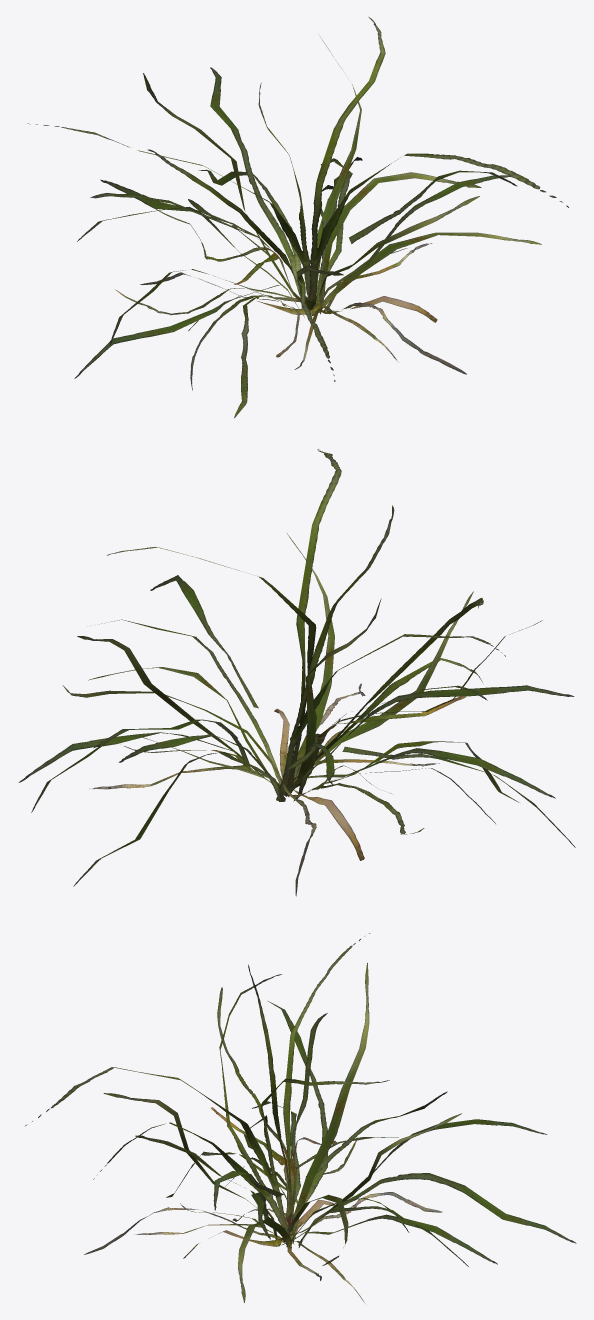
Rendered from grass-medium-01-small-b.glb.
3 views of the same model, one above another, from view 1: azimuth 30°, elevation 25°; view 2: azimuth 150°, elevation 25°; view 3: azimuth 270°, elevation 25° (orthographic). The views are drawn at different scales.
Parts seen in each view (by area): view 1: grass_medium_01_small_b; view 2: grass_medium_01_small_b; view 3: grass_medium_01_small_b.
Part boxes in pixels (x1,y1,x2,y2): grass_medium_01_small_b: (27,17,568,417); grass_medium_01_small_b: (19,449,575,896); grass_medium_01_small_b: (25,933,576,1302).
Bounding box in the file's own units: 0.166 × 0.0999 × 0.1899.
1 material, 1 textured.
